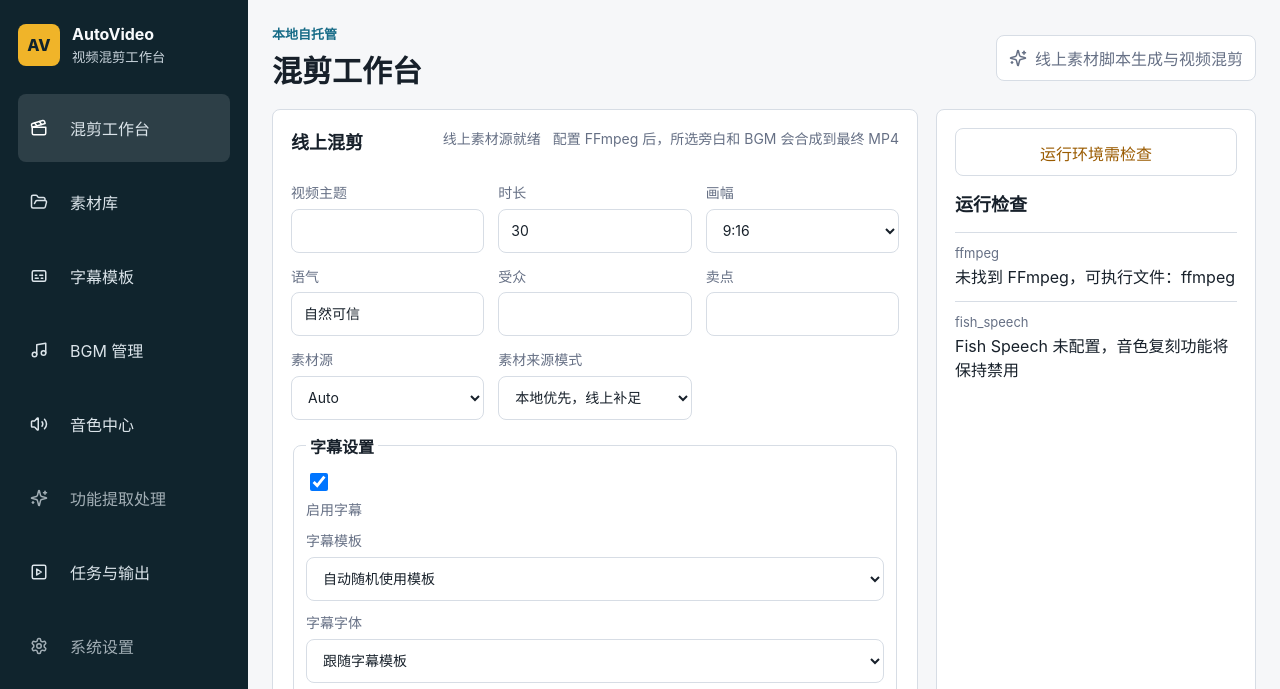
Scenario: AutoVideo shell › opens subtitle templates from desktop navigation and updates active state
Click the link "字幕模板" at (82,277), box [30,267,134,287]
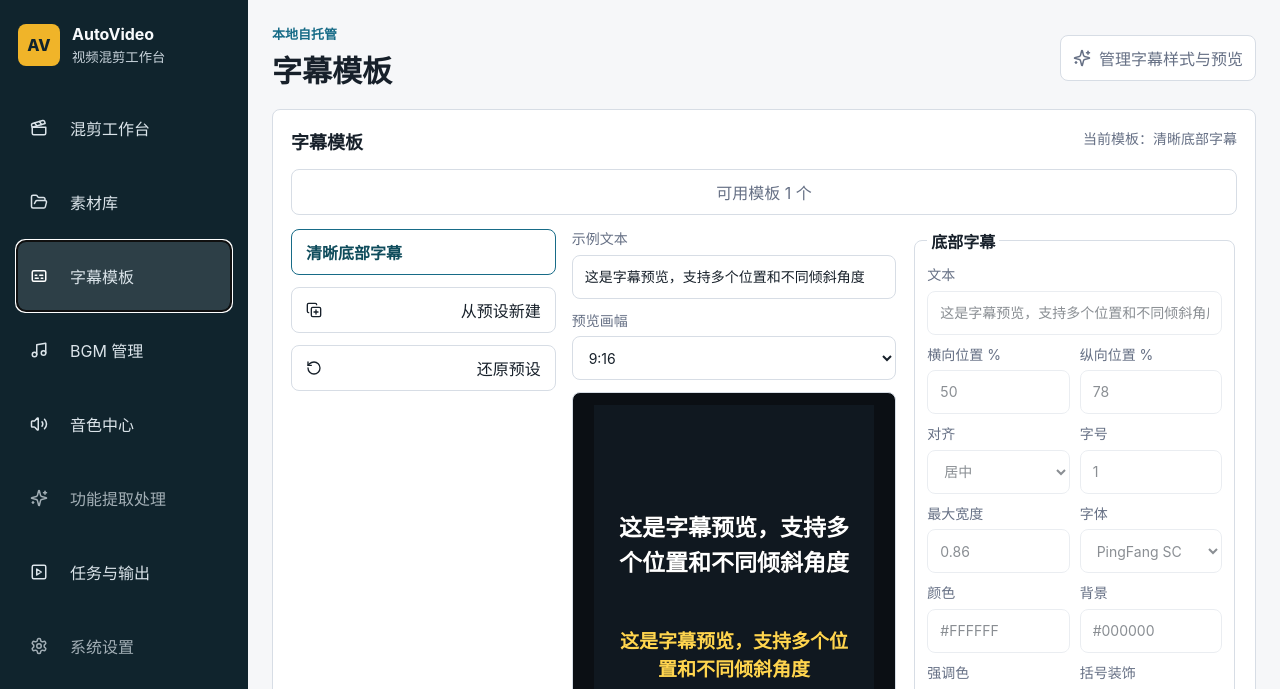
expect the heading "字幕模板" below "本地自托管" is shown: met, box [272,47,392,91]
expect the text "管理字幕样式与预览" is shown: met, box [1099,46,1243,70]
expect the heading "线上混剪" is gone: met
